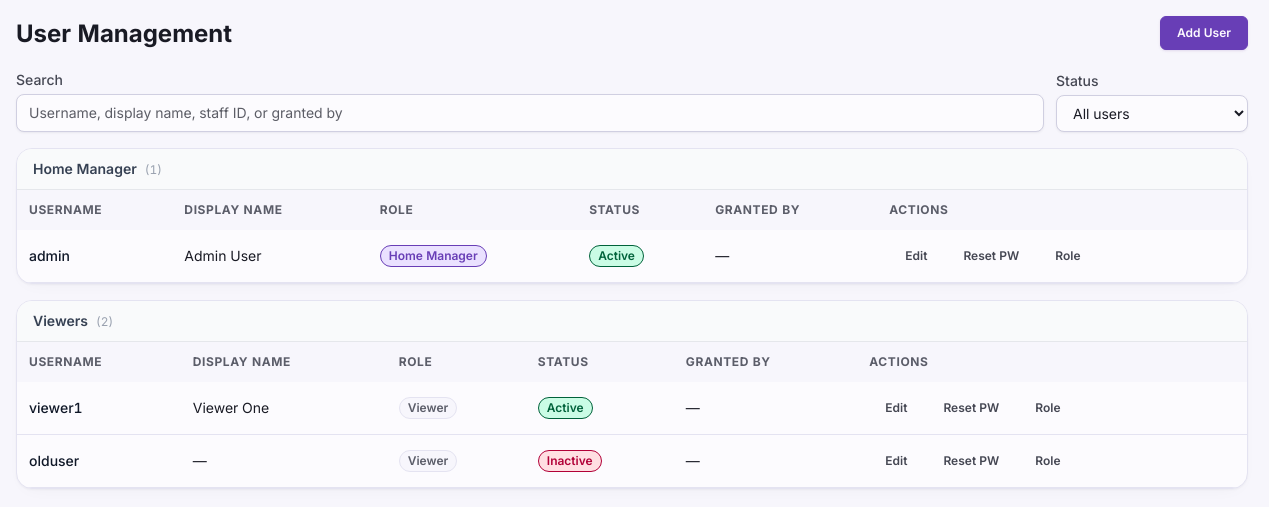
it: UserManagement › filters users by inactive status
Check: the text "admin" is shown, box [17,230,172,282]
Select "Inactive" in the dropdown labelled "Status" at (1152, 114), box [1056,95,1248,132]
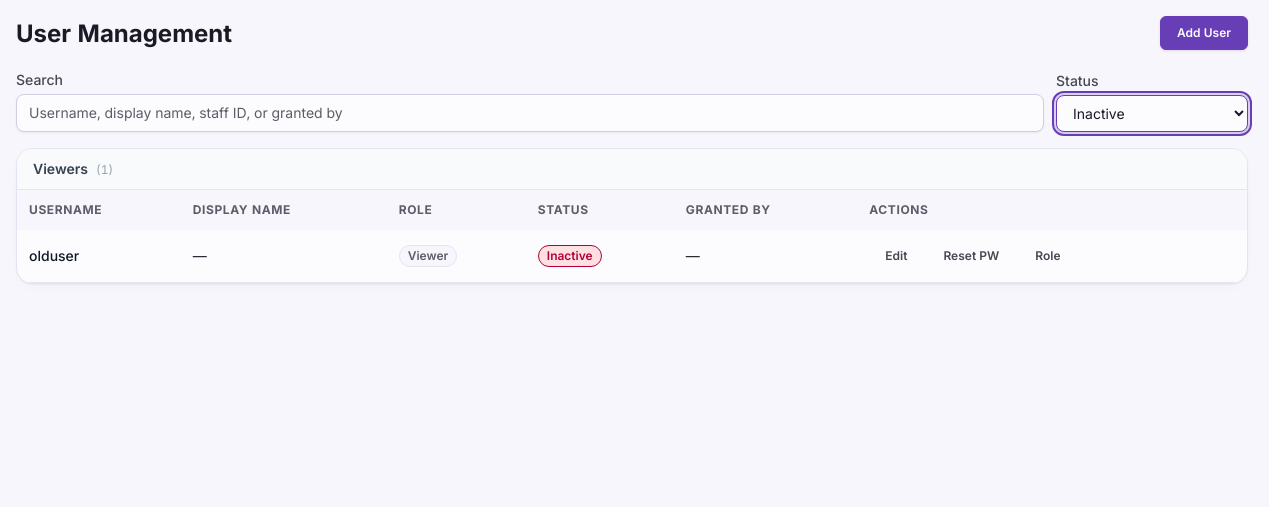
Check: the text "olduser" is shown, box [17,230,181,282]
Check: the text "viewer1" is gone
